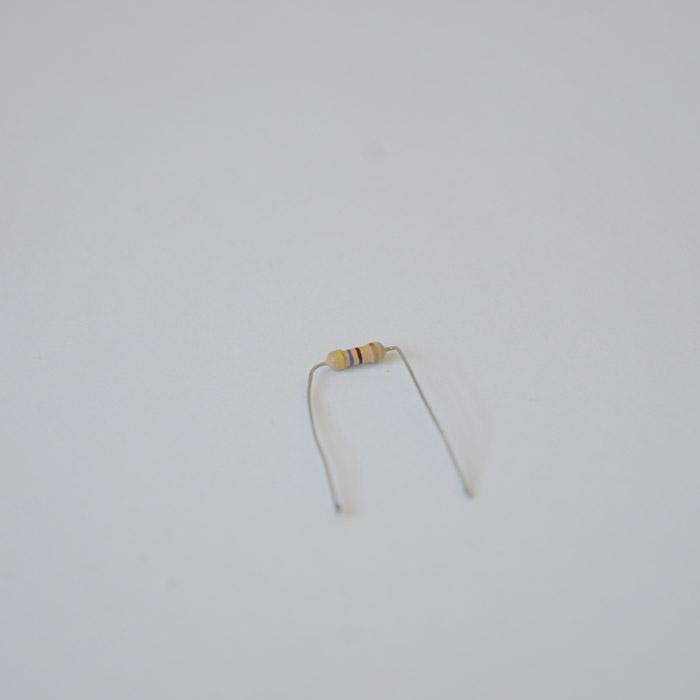resistor: (325, 341, 386, 371)
